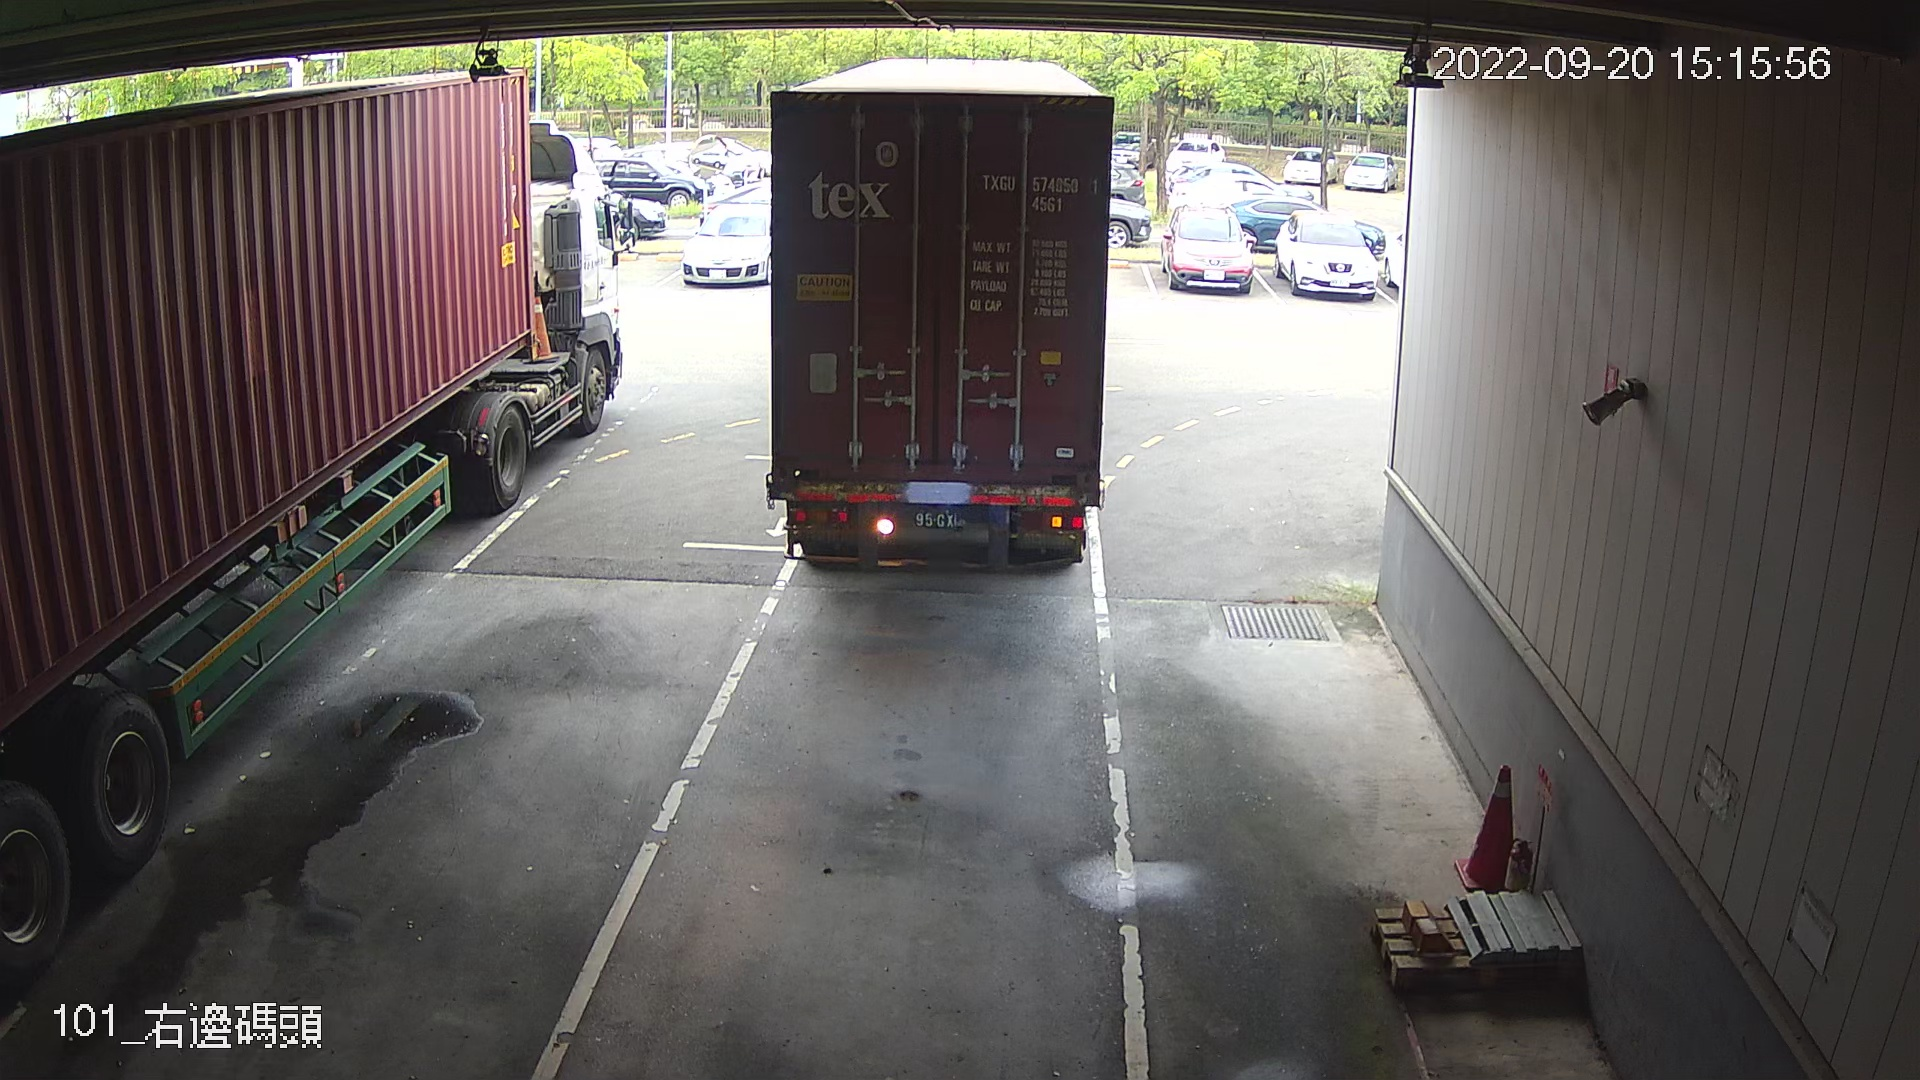container: (976, 166, 1106, 218)
